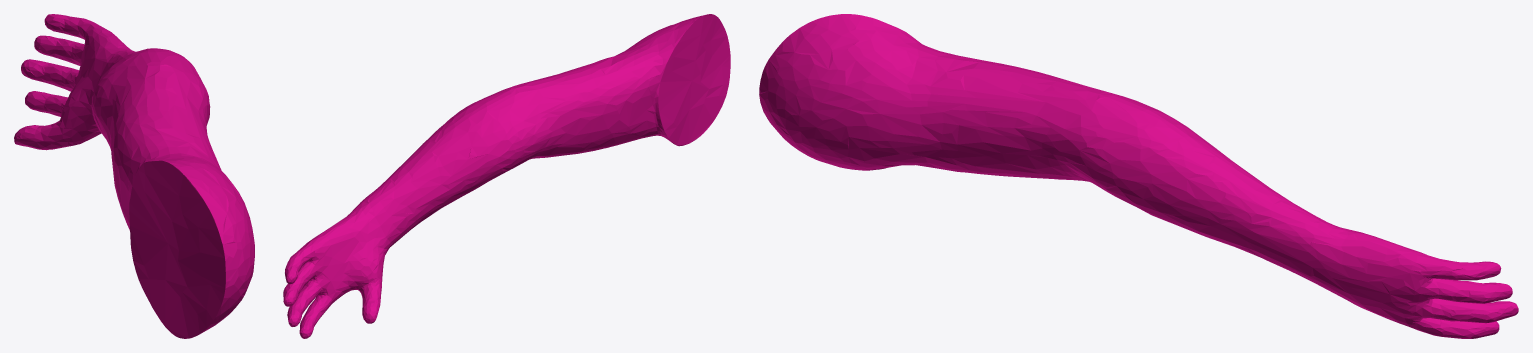
The model's file is arm2.obj.
The picture shows the model from 3 angles, left to right: view 1: azimuth 30°, elevation 25°; view 2: azimuth 150°, elevation 25°; view 3: azimuth 270°, elevation 25°; orthographic projection. The views are drawn at different scales.
Parts seen in each view (by area): view 1: obj_0; view 2: obj_0; view 3: obj_0.
Part boxes in pixels (x1=…): obj_0: x1=14, y1=14, x2=254, y2=338; obj_0: x1=283, y1=14, x2=730, y2=338; obj_0: x1=759, y1=14, x2=1518, y2=338.
Size of the model in its own units: 17.14 by 15.87 by 48.02.
